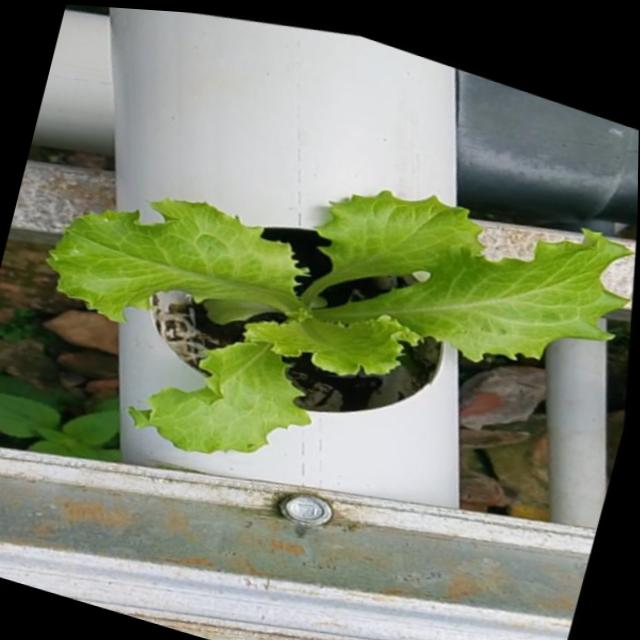Baby: (46, 189, 633, 451)
